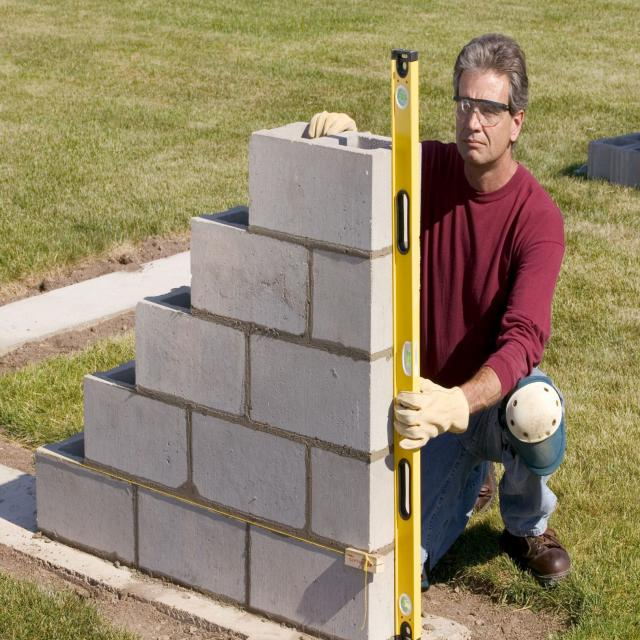Concrete: (34, 114, 394, 640)
